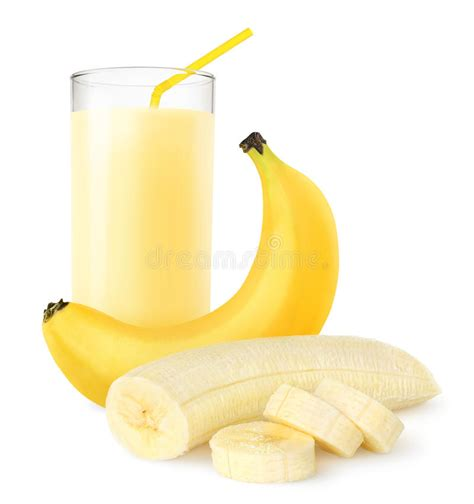banana: (39, 161, 345, 422)
